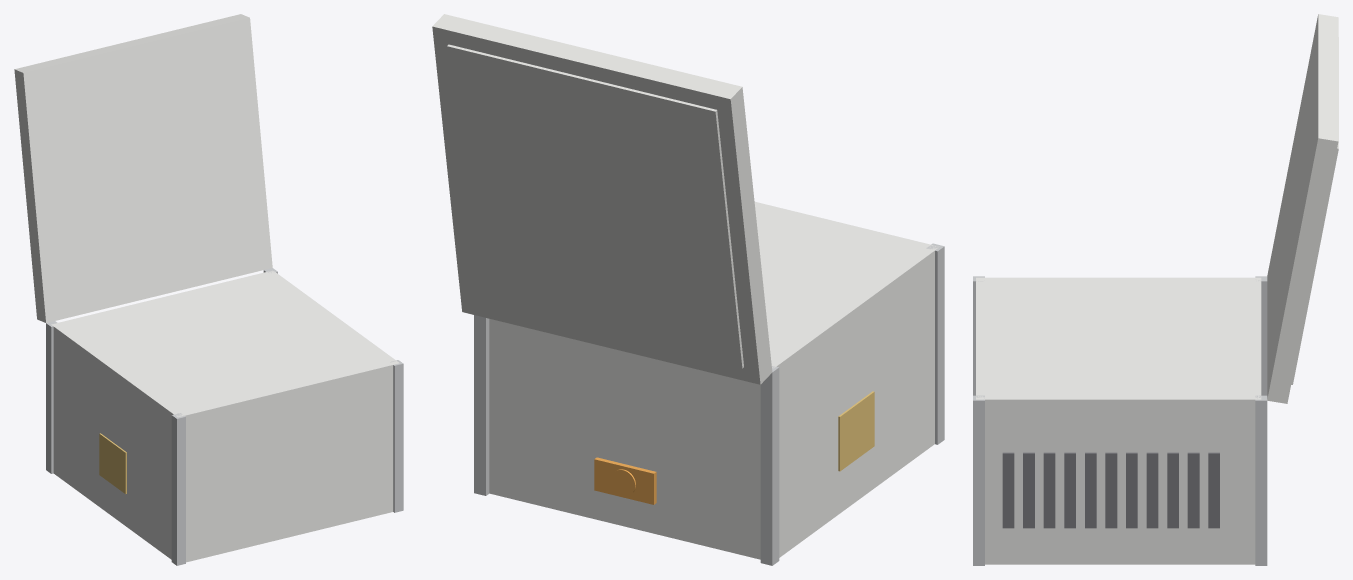
Rendered from rover26_battery_bay_m_lid_open.glb.
The picture shows the model from 3 angles, left to right: view 1: azimuth 30°, elevation 25°; view 2: azimuth 150°, elevation 25°; view 3: azimuth 270°, elevation 25°; orthographic projection. The views are drawn at different scales.
Parts seen in each view (by area): view 1: body, lid, frame, gold_label; view 2: lid, body, frame, port_connector, gold_label; view 3: body, lid, vents, frame.
Boxes of the visible parts, x1,y1,x2,y2 form: body: (51,270,399,562); lid: (14,14,272,322); frame: (46,268,403,565); gold_label: (99,433,126,494); lid: (432,14,772,384); body: (489,201,939,559); frame: (474,243,944,565); port_connector: (594,457,656,504); gold_label: (838,391,874,471); body: (976,277,1261,564); lid: (1267,14,1338,403); vents: (1002,452,1219,528); frame: (973,276,1267,565).
Bounding box in the file's own units: 1 × 1.6 × 1.24.
